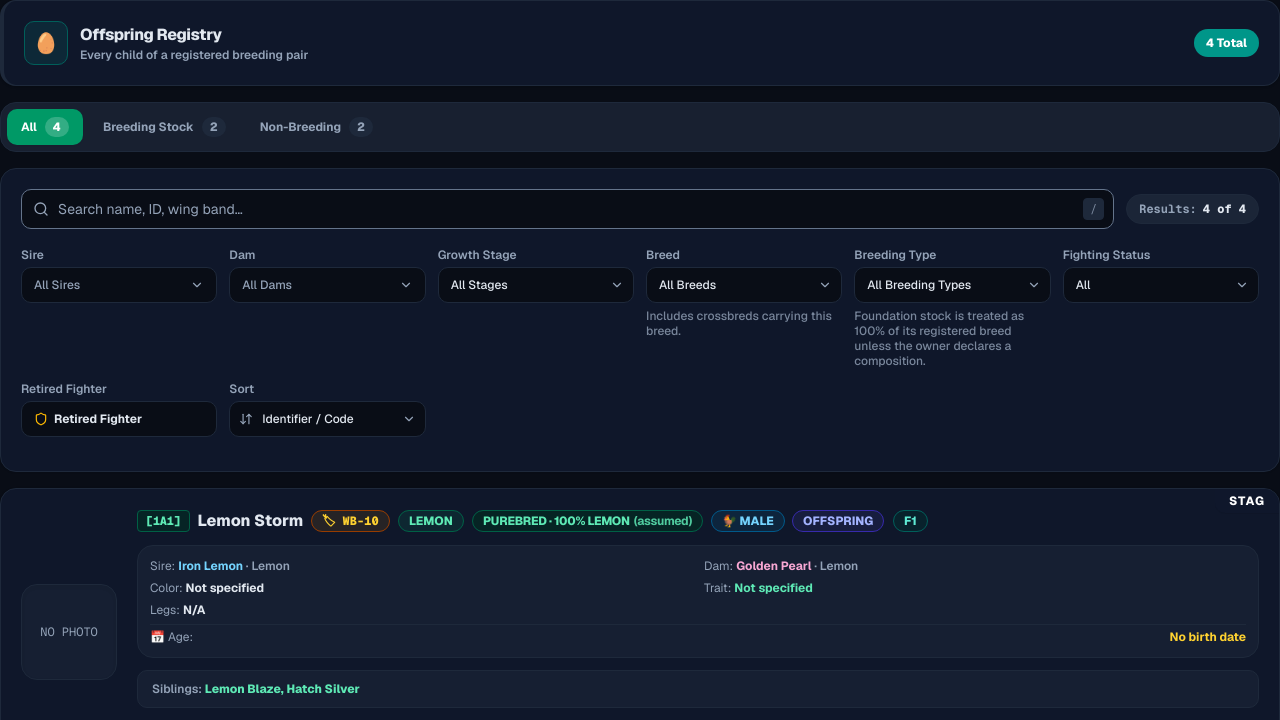
Test: Offspring Breeding Classification & Fighting Status Registry › supports Breeding Stock chicken with No Fight Record
The width and height of the screenshot is (1280, 720).
Select Breeding Stock classification pill
Click the tab "Breeding Stock 2": click(164, 127) [89,109,240,145]
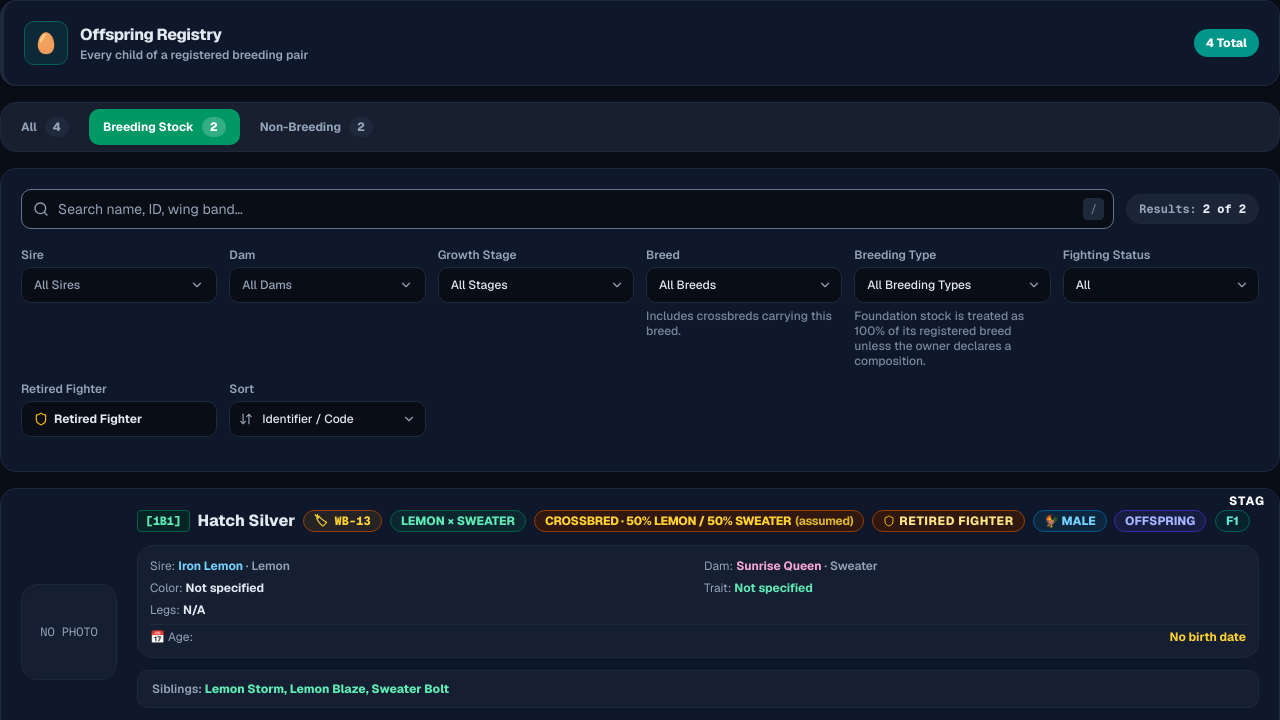
Select Fighting Status filter: "without" (No Fight Record)
Select "No Fight Record" in the dropdown labelled "Fighting Status": (1161, 285) [1063,267,1259,303]
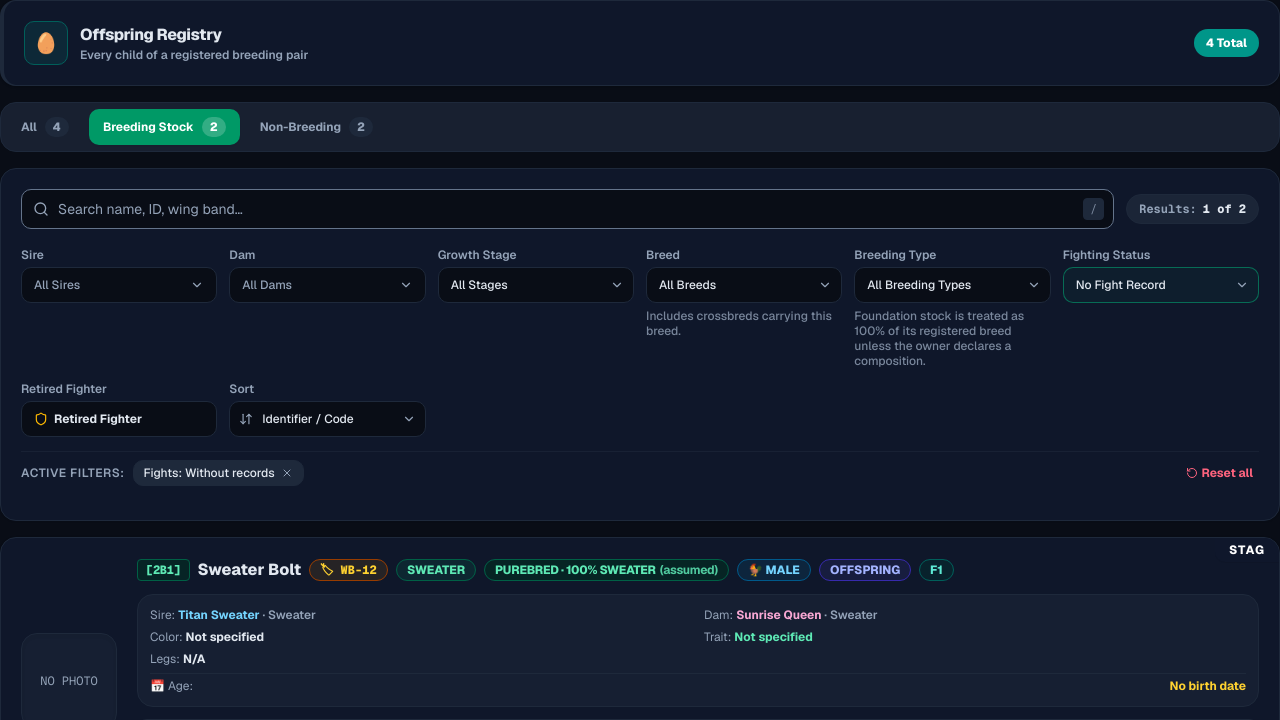
Expected: the heading "[2B1] Sweater Bolt" is shown, [137,558,301,582]
Expected: the text "1 of 2" is shown, [1203,201,1246,217]
